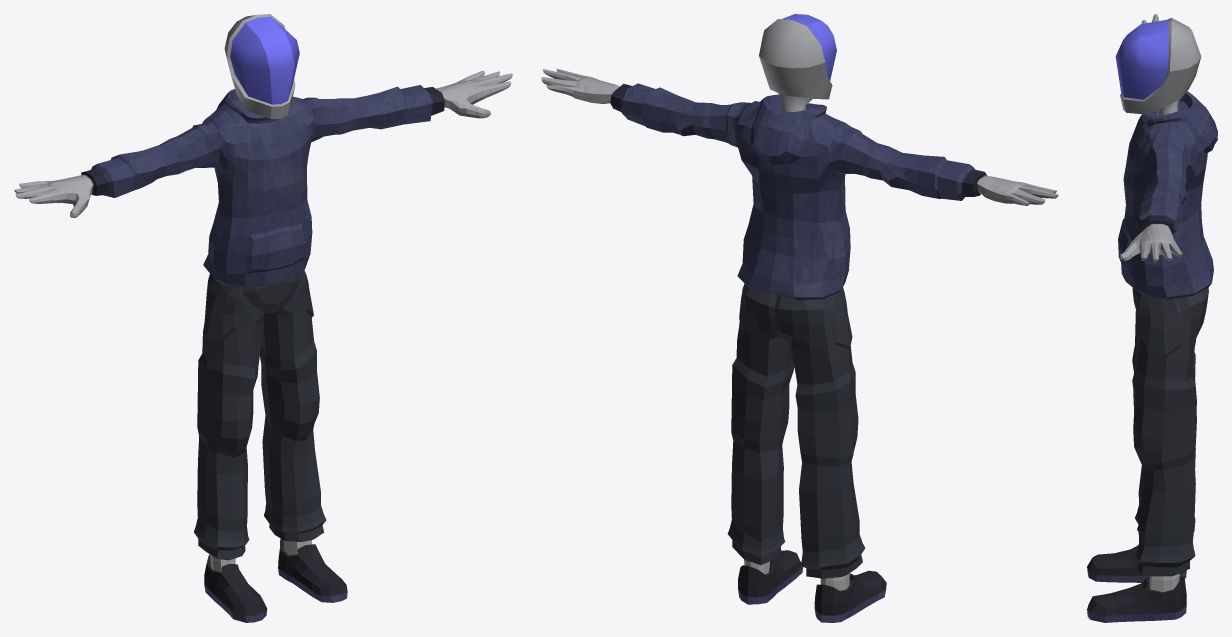
Rendered from Cyberpunk characters moedels2.fbx.
3 renders of one model, left to right at view 1: azimuth 30°, elevation 25°; view 2: azimuth 150°, elevation 25°; view 3: azimuth 270°, elevation 25°, orthographic. The views are drawn at different scales.
Visible parts, largest first — view 1: Cyberpunk_characters2; view 2: Cyberpunk_characters2; view 3: Cyberpunk_characters2.
Part boxes in pixels (left/top/right/bottom): Cyberpunk_characters2: left=14, top=14, right=512, bottom=622; Cyberpunk_characters2: left=541, top=14, right=1058, bottom=622; Cyberpunk_characters2: left=1087, top=14, right=1217, bottom=622.
Size of the model in its own units: 168 by 183 by 37.78.
